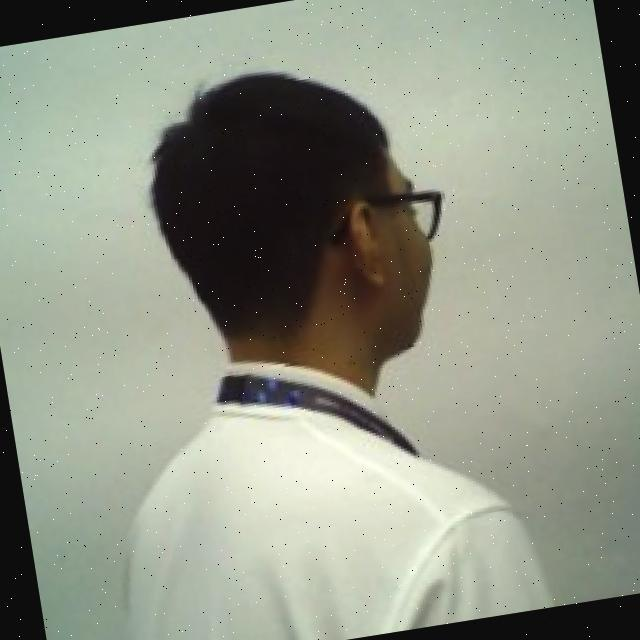no_gloves: (134, 43, 424, 330)
